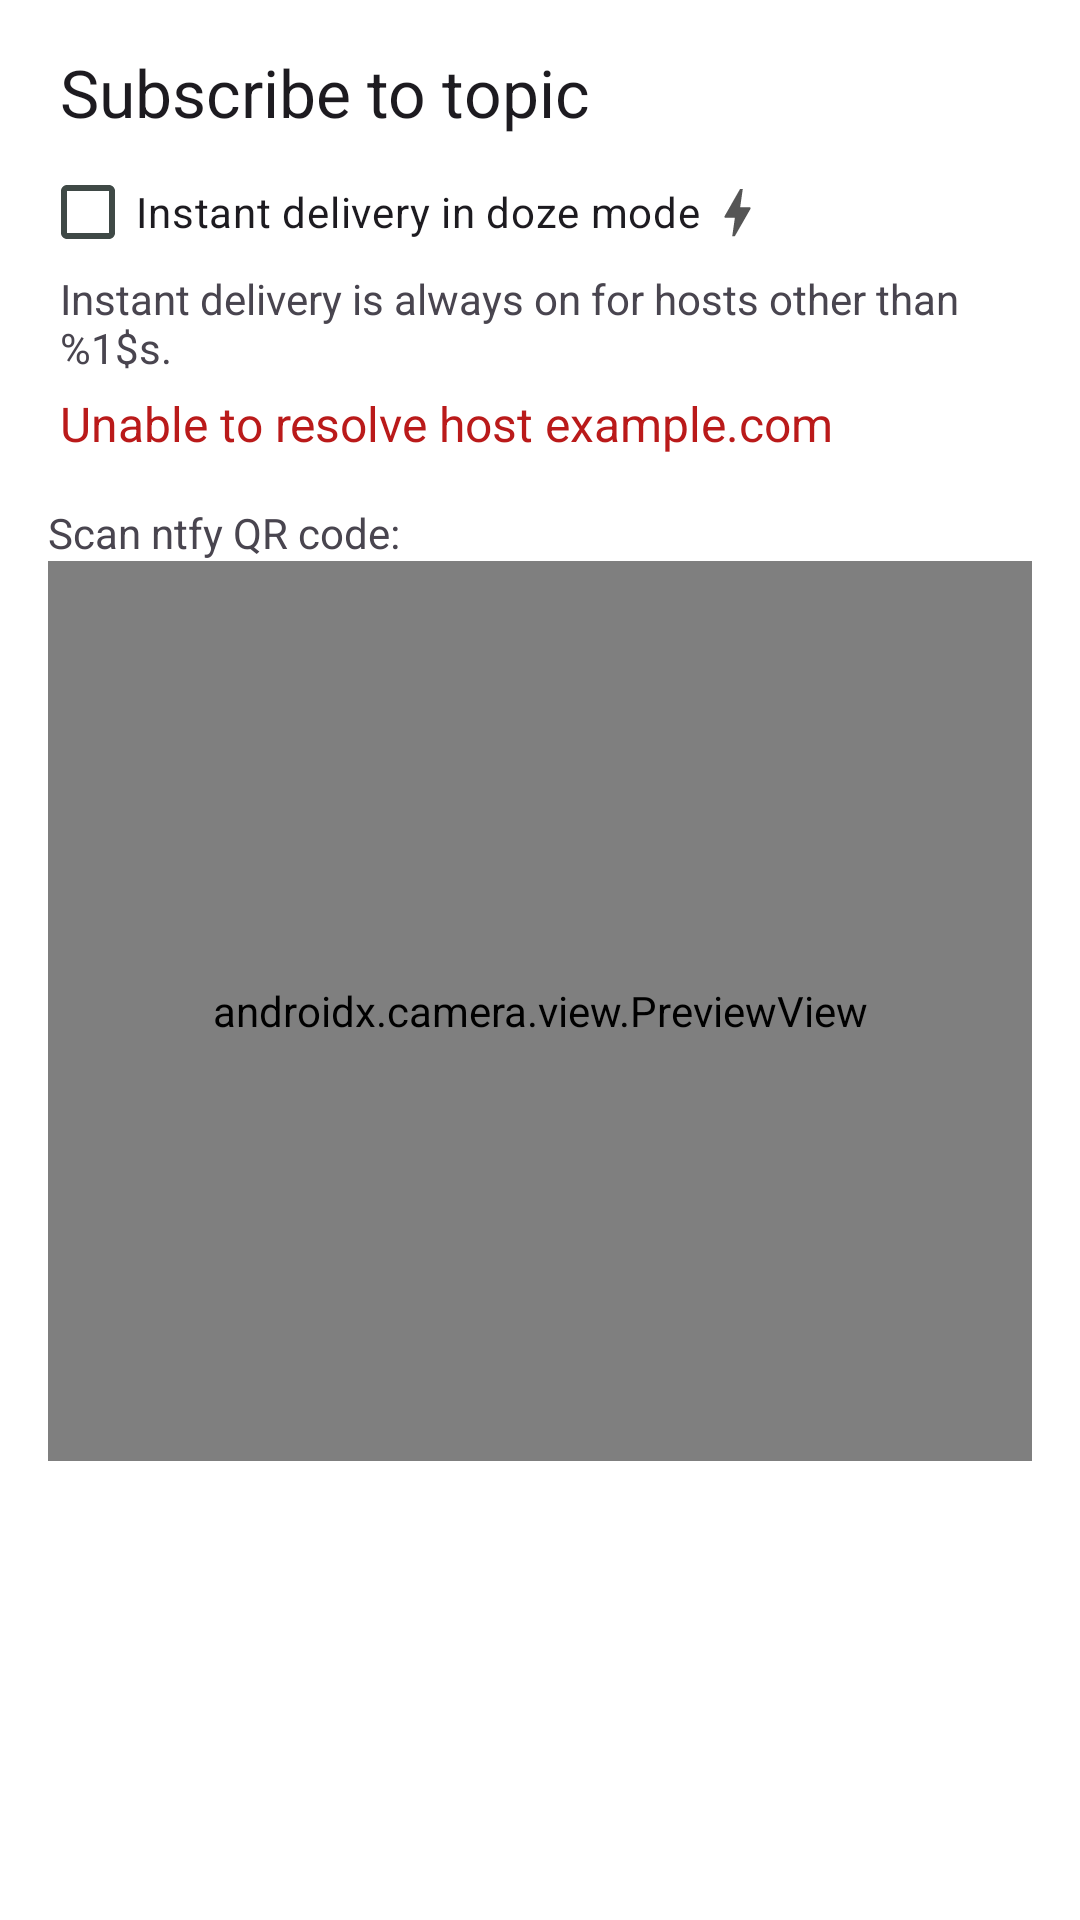

Point at icon controls on the screen. Image size 1080 × 1920, points as (x,y).
bolt: (737,213)
